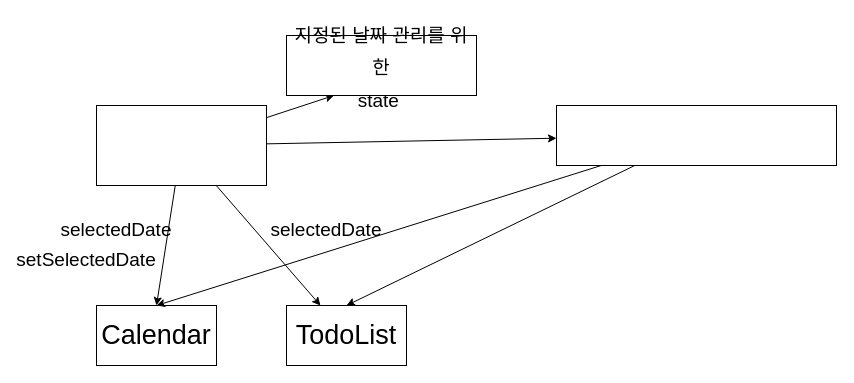
Image size: 854x383. Some labels were removed from this diagram. Each missing label, with the centre of its shape:
index: point 181,145
요일별 TodoList 를 담고 있는 TodoListStore: point 696,135
